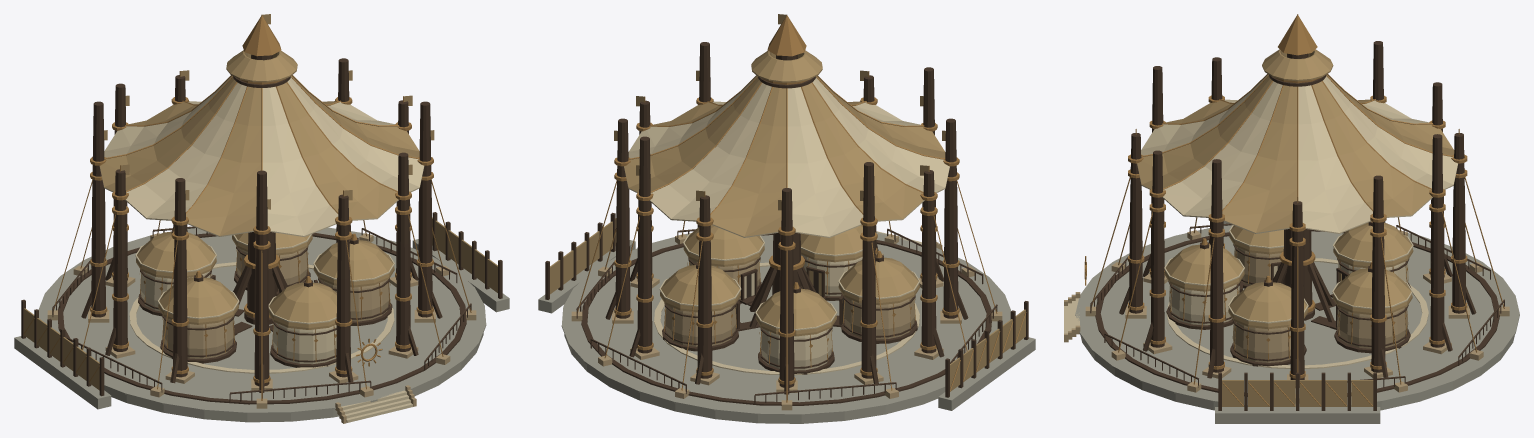
File: sky-court.glb
3 views of the same model, side by side, from view 1: azimuth 30°, elevation 25°; view 2: azimuth 150°, elevation 25°; view 3: azimuth 270°, elevation 25° (orthographic).
Parts seen in each view (by area): view 1: great-felt-canopy, trodden-ring, standing-ring, felt-halls-roof, herd-pens, felt-halls; view 2: great-felt-canopy, trodden-ring, standing-ring, felt-halls-roof, herd-pens, felt-halls; view 3: great-felt-canopy, trodden-ring, standing-ring, felt-halls-roof, herd-pens, felt-halls.
Part boxes in pixels (x1,y1,x2,y2): great-felt-canopy: (99, 50, 424, 236); trodden-ring: (38, 227, 486, 423); standing-ring: (47, 14, 476, 408); felt-halls-roof: (135, 226, 394, 329); herd-pens: (14, 212, 509, 409); felt-halls: (138, 246, 392, 367); great-felt-canopy: (624, 50, 949, 237); trodden-ring: (561, 231, 1011, 423); standing-ring: (571, 14, 1002, 410); felt-halls-roof: (659, 225, 920, 336); herd-pens: (538, 212, 1035, 410); felt-halls: (662, 254, 917, 374); great-felt-canopy: (1137, 49, 1458, 233); trodden-ring: (1064, 225, 1519, 410); standing-ring: (1085, 14, 1509, 403); felt-halls-roof: (1164, 221, 1413, 329); herd-pens: (1084, 221, 1504, 423); felt-halls: (1166, 244, 1411, 366).
Size of the model in its own units: 36.4 by 26.5 by 35.28.
